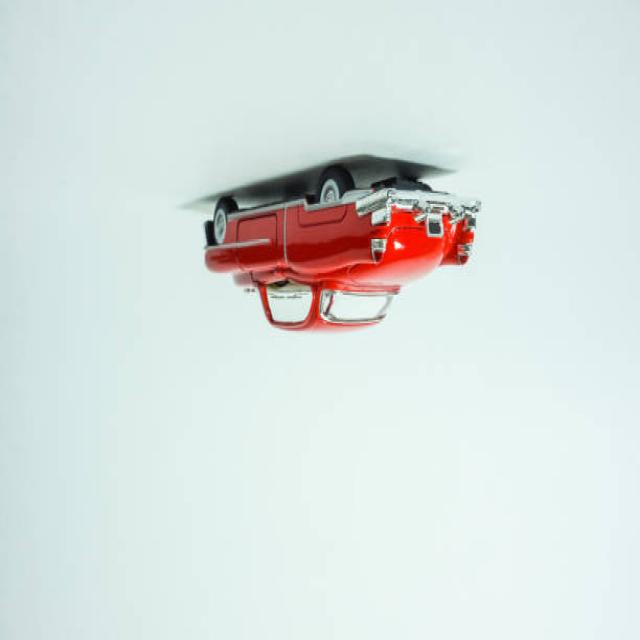Car: (204, 166, 479, 333)
